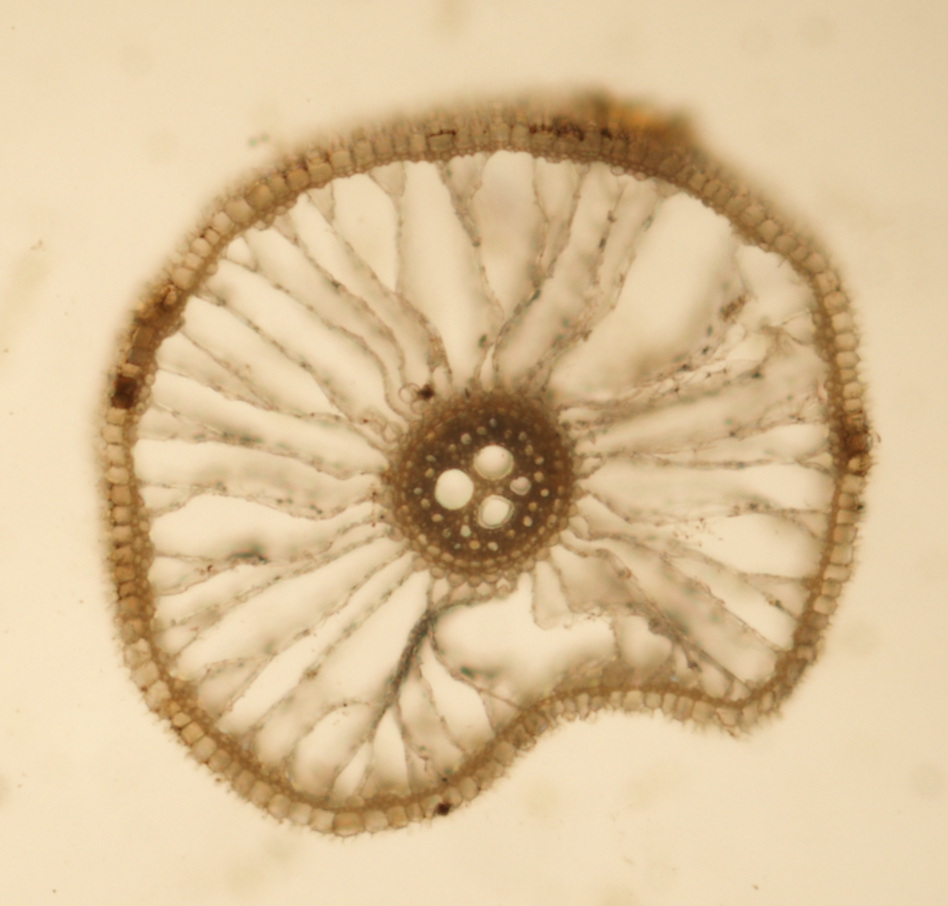lm: (434, 468, 473, 509), (473, 444, 514, 481), (478, 494, 512, 528), (510, 476, 531, 495)
